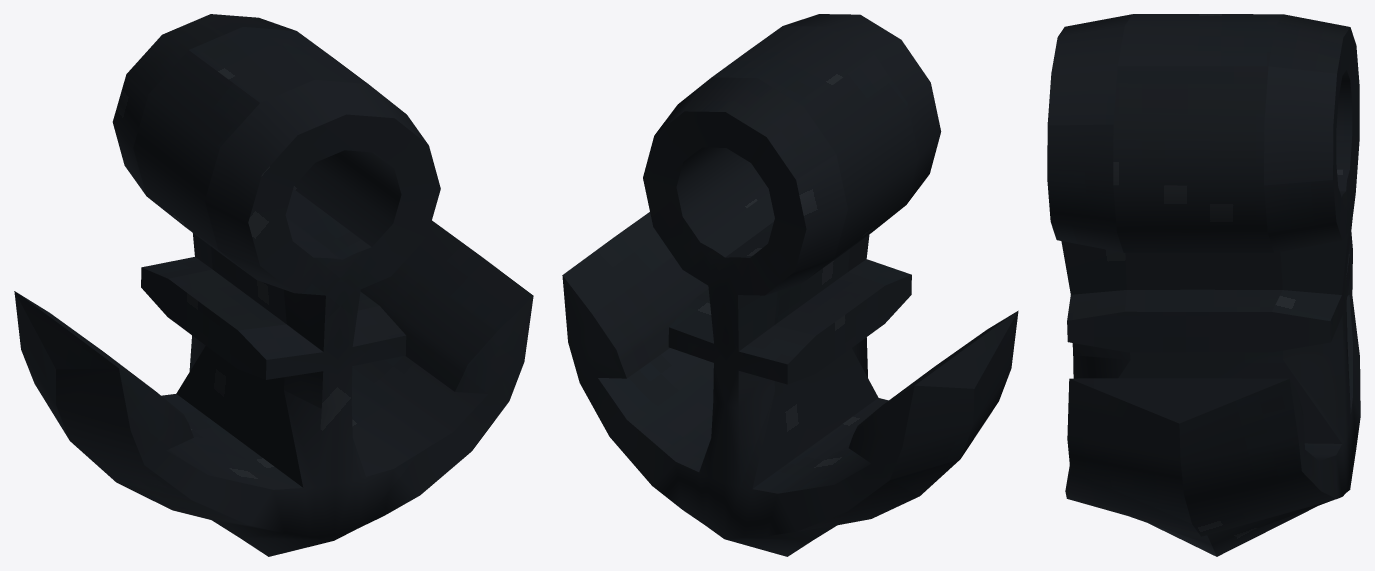
Rendered from item_artifactAnchor.glb.
The picture shows the model from 3 angles, left to right: view 1: azimuth 30°, elevation 25°; view 2: azimuth 150°, elevation 25°; view 3: azimuth 270°, elevation 25°; orthographic projection. The views are drawn at different scales.
Parts seen in each view (by area): view 1: Donor_anchor_0; view 2: Donor_anchor_0; view 3: Donor_anchor_0.
Part boxes in pixels (x1=…): Donor_anchor_0: x1=14, y1=14, x2=533, y2=556; Donor_anchor_0: x1=562, y1=14, x2=1018, y2=556; Donor_anchor_0: x1=1047, y1=14, x2=1360, y2=556.
Bounding box in the file's own units: 0.25 × 0.3 × 0.16.
1 material, 1 textured.
